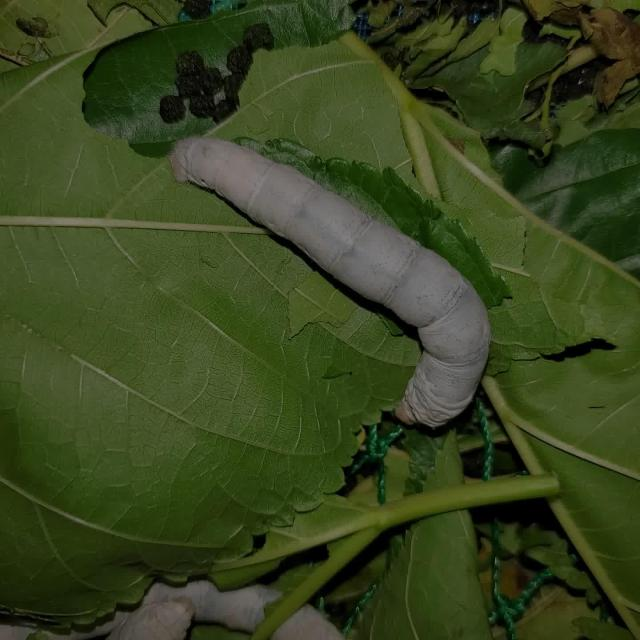Healthy: (161, 123, 495, 434)
